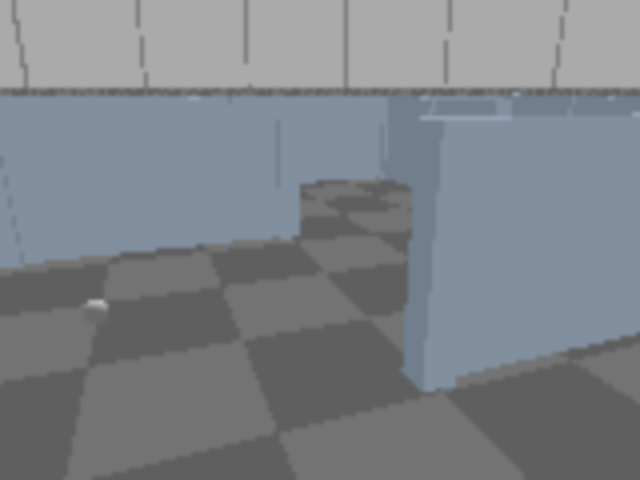puck: (76, 294, 116, 329)
